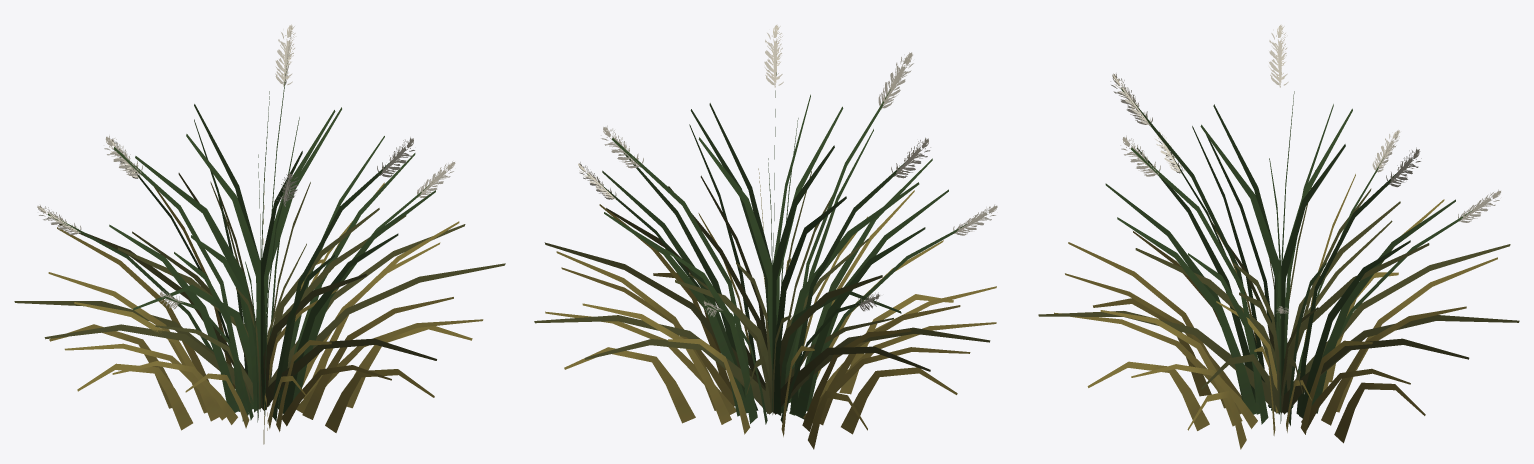
The model's file is Plants.fbx.
The picture shows the model from 3 angles, left to right: view 1: azimuth 30°, elevation 25°; view 2: azimuth 150°, elevation 25°; view 3: azimuth 270°, elevation 25°; orthographic projection.
Parts seen in each view (by area): view 1: Plane; view 2: Plane; view 3: Plane.
Part boxes in pixels (box(x1,y1,x2,y2)): Plane: box(14, 24, 505, 444); Plane: box(534, 24, 997, 449); Plane: box(1038, 24, 1519, 449).
Bounding box in the file's own units: 132 × 95.33 × 126.
